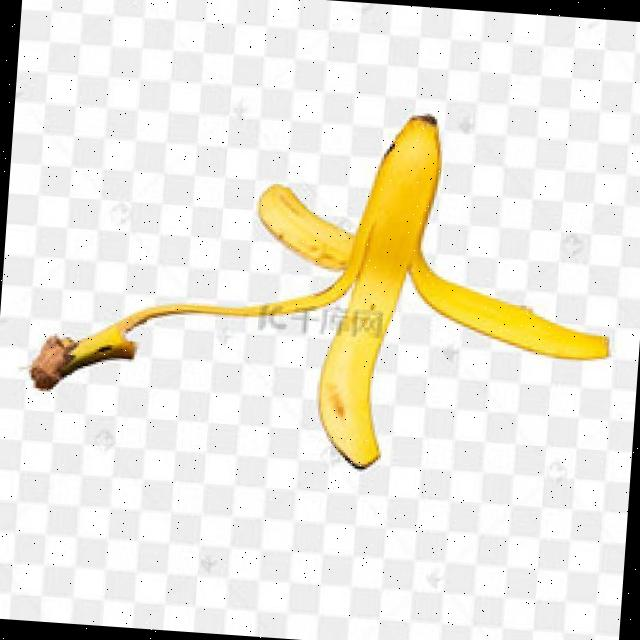banana-peel: (22, 84, 626, 486)
